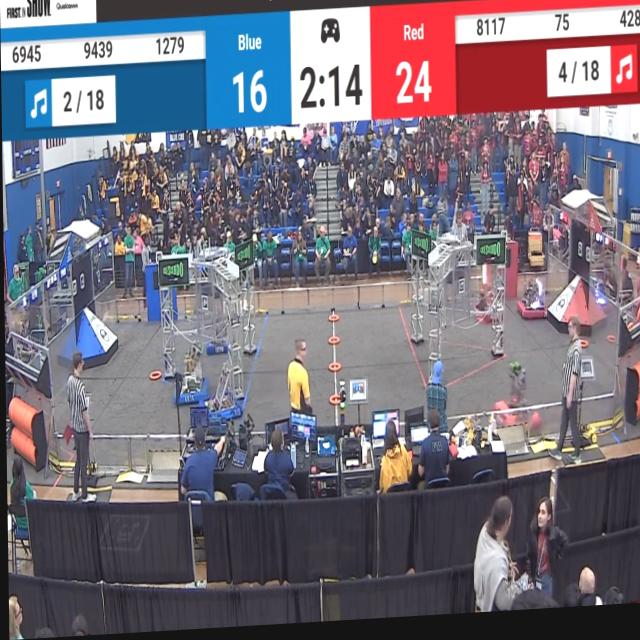Robot: (493, 357, 539, 437), (175, 341, 207, 410), (206, 364, 243, 423), (468, 263, 493, 331), (513, 278, 545, 331), (206, 303, 232, 361)
